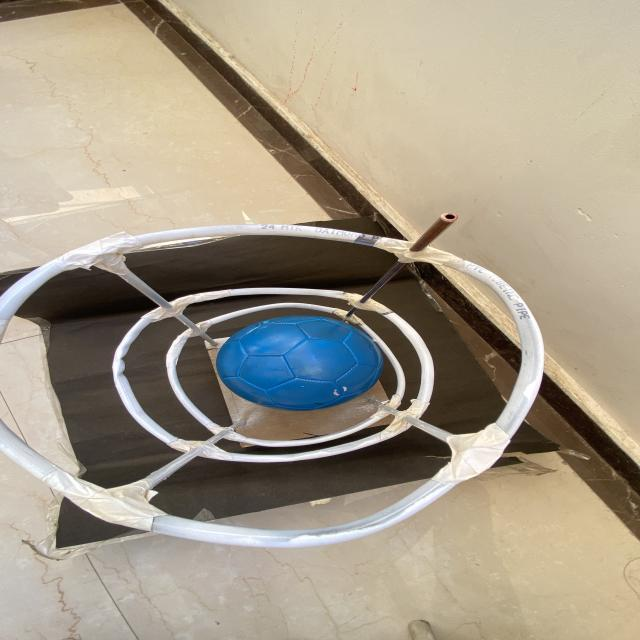blue_ball: (221, 316, 401, 406)
silo: (0, 212, 534, 540)
